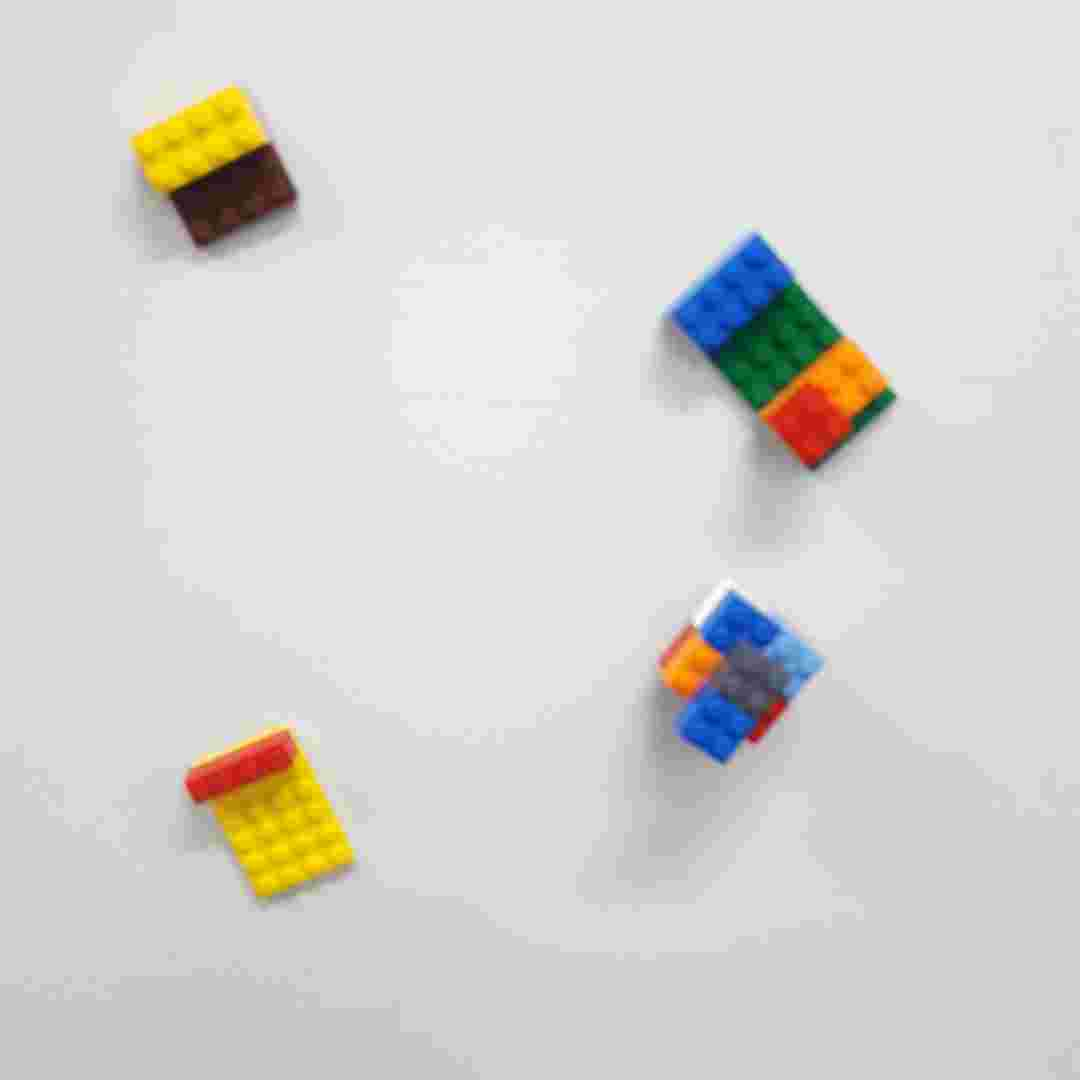LEGO: (656, 224, 901, 475), (653, 570, 831, 771), (181, 714, 365, 907), (128, 75, 308, 253)
